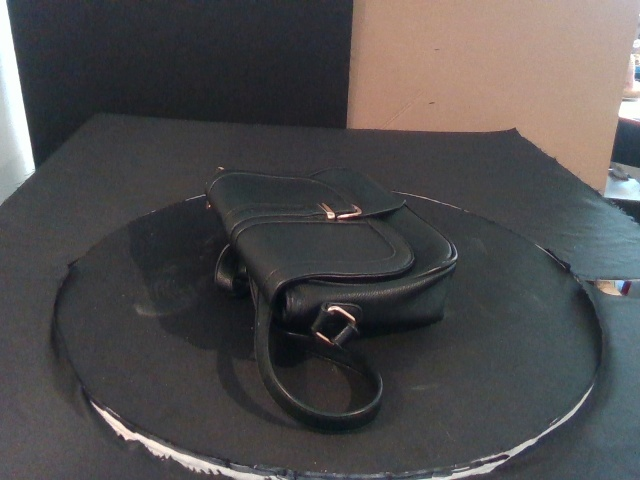bag: (205, 168, 458, 336)
